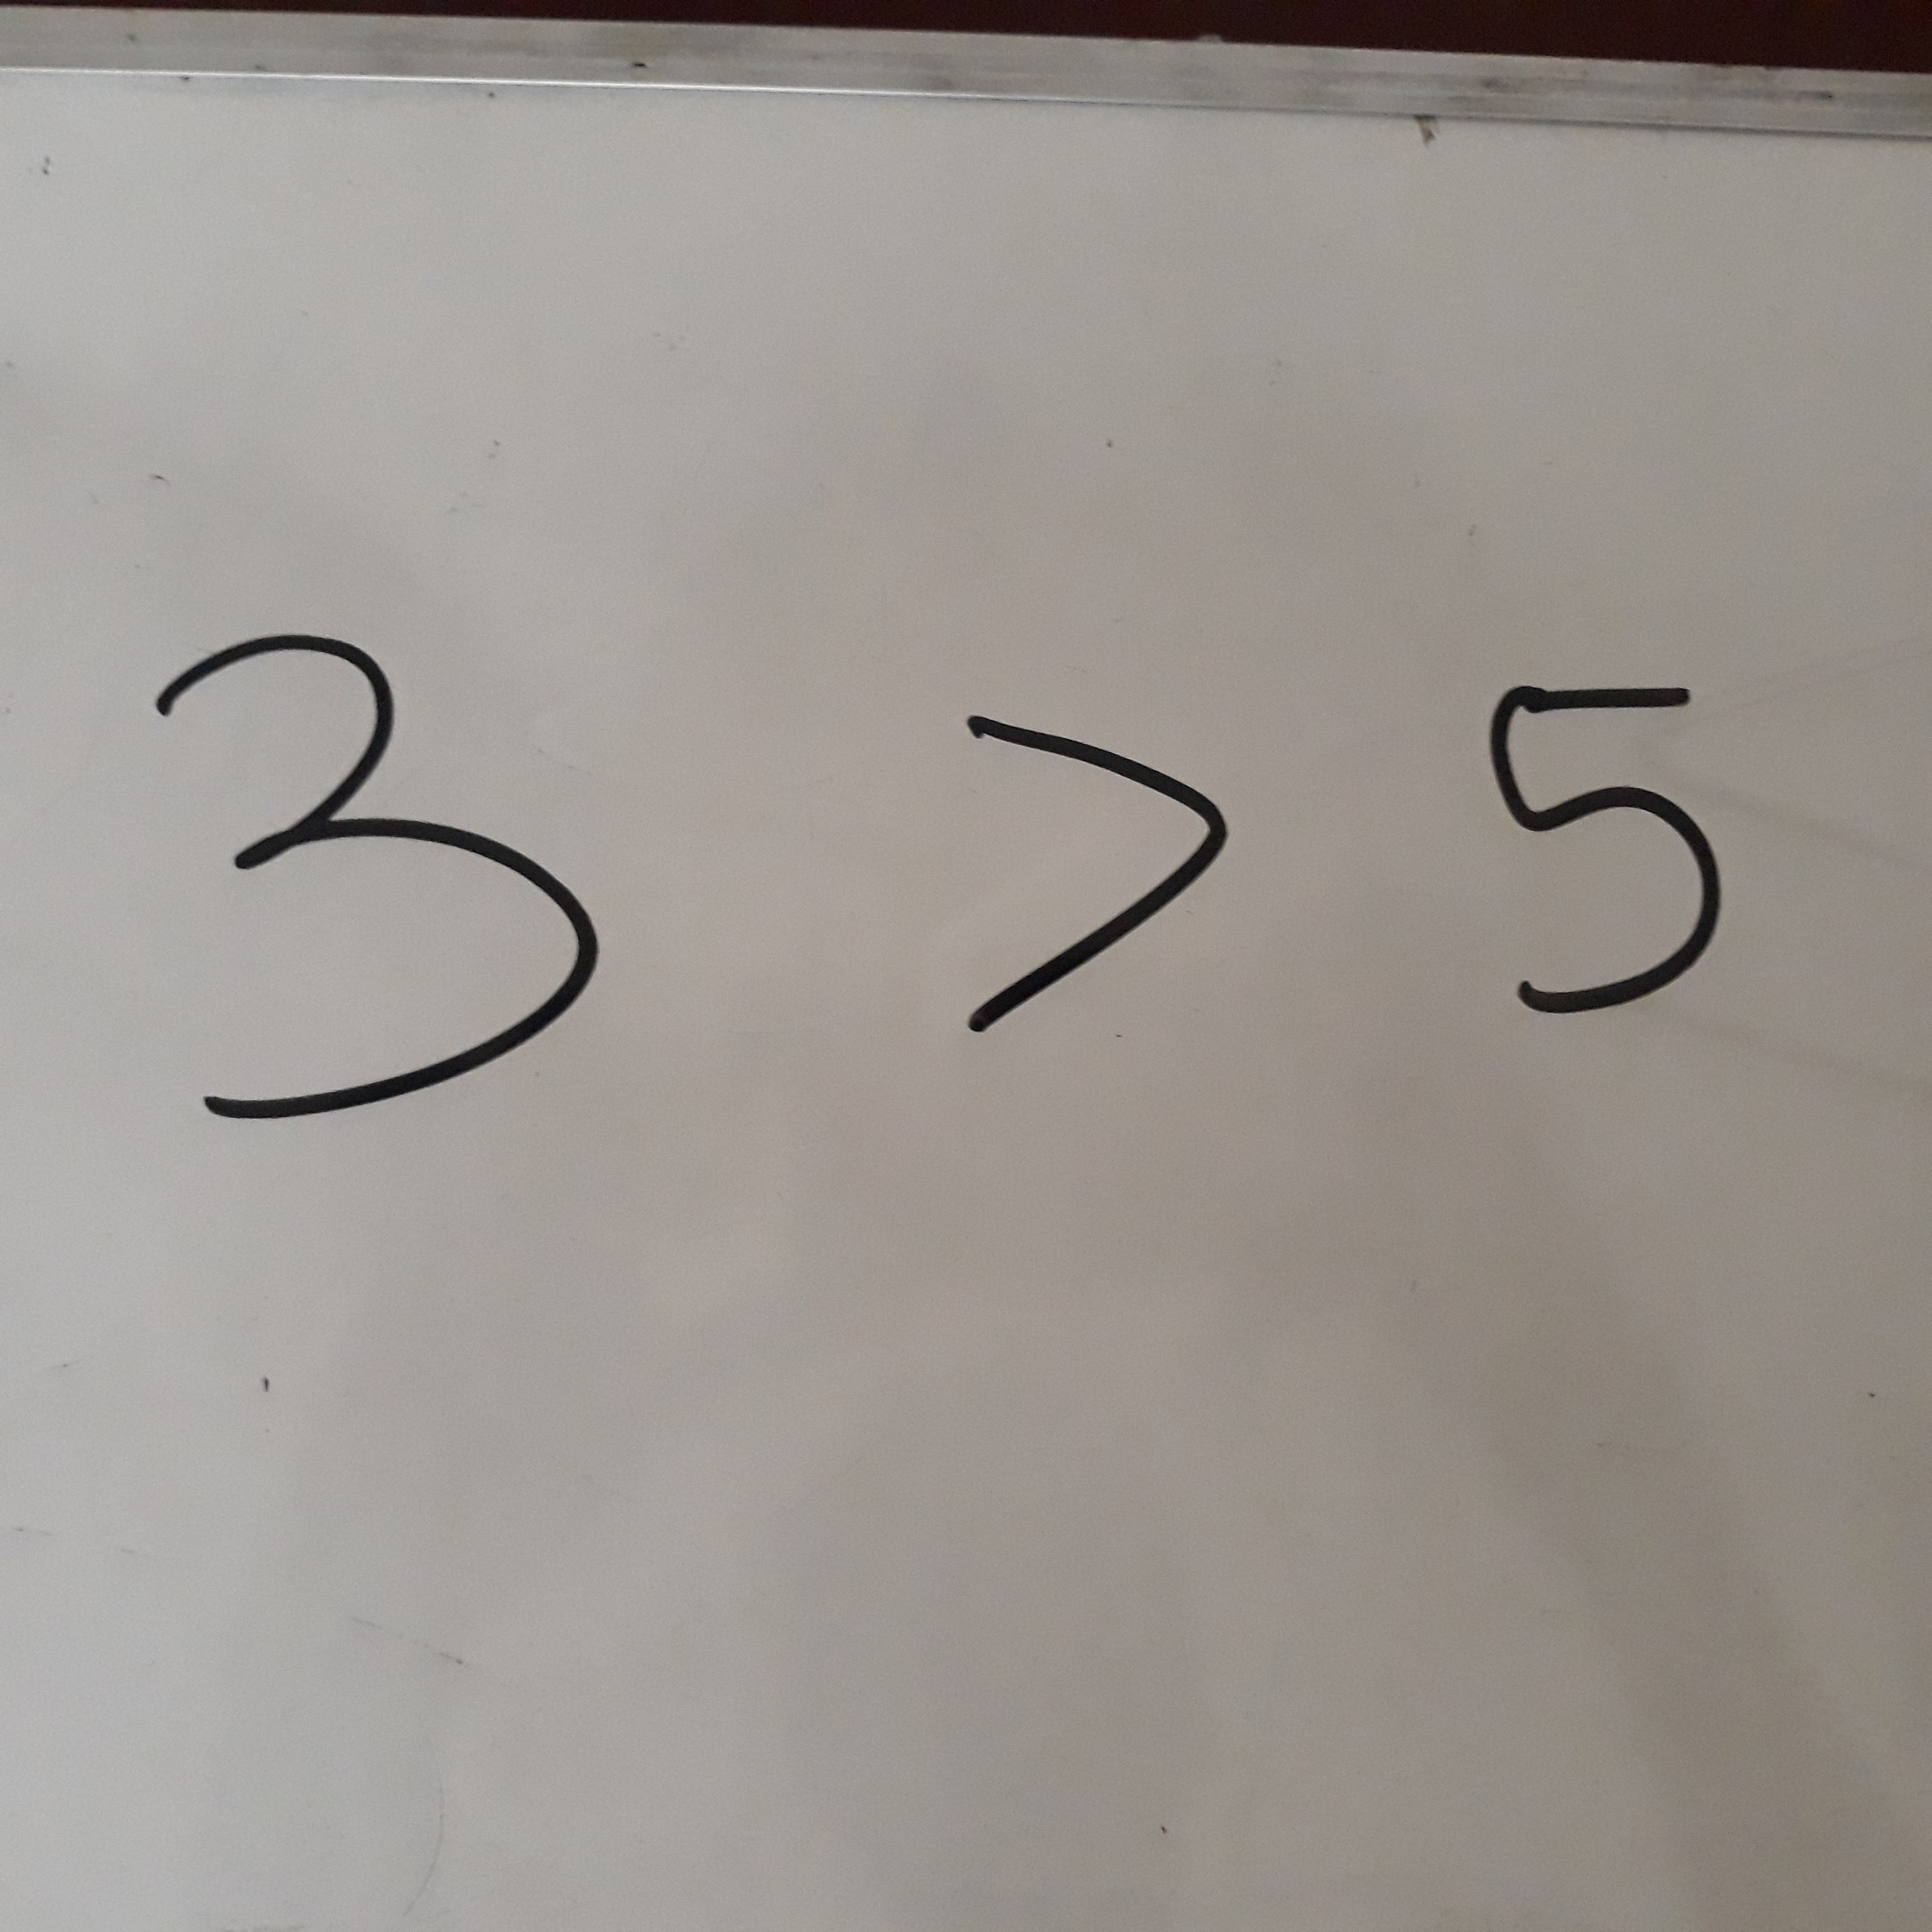morethan: (863, 661, 1303, 1072)
num3: (114, 605, 641, 1147)
num5: (1411, 659, 1791, 1044)
